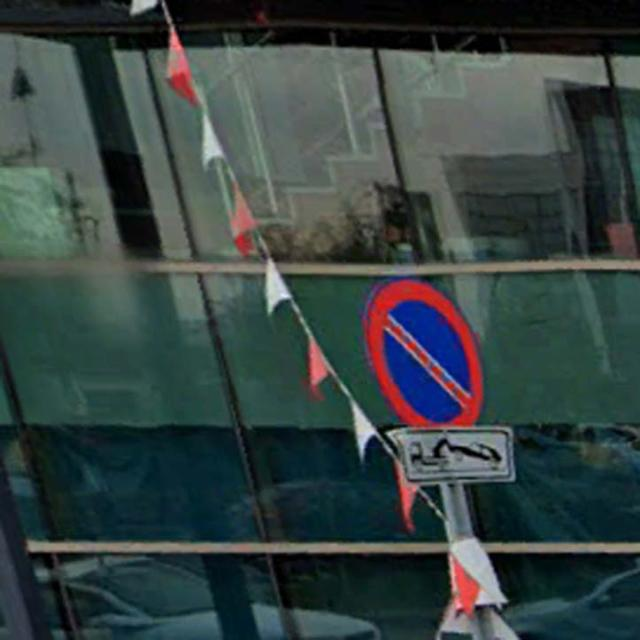parkyasak: (363, 278, 484, 434)
